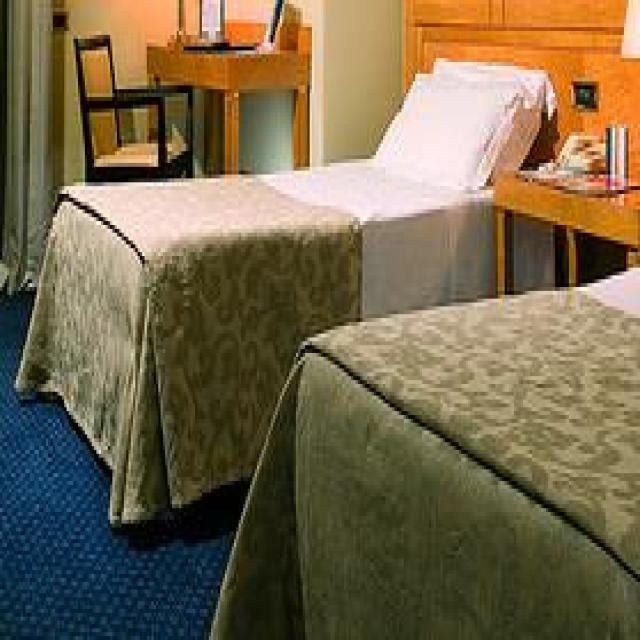bed: (15, 56, 563, 546)
